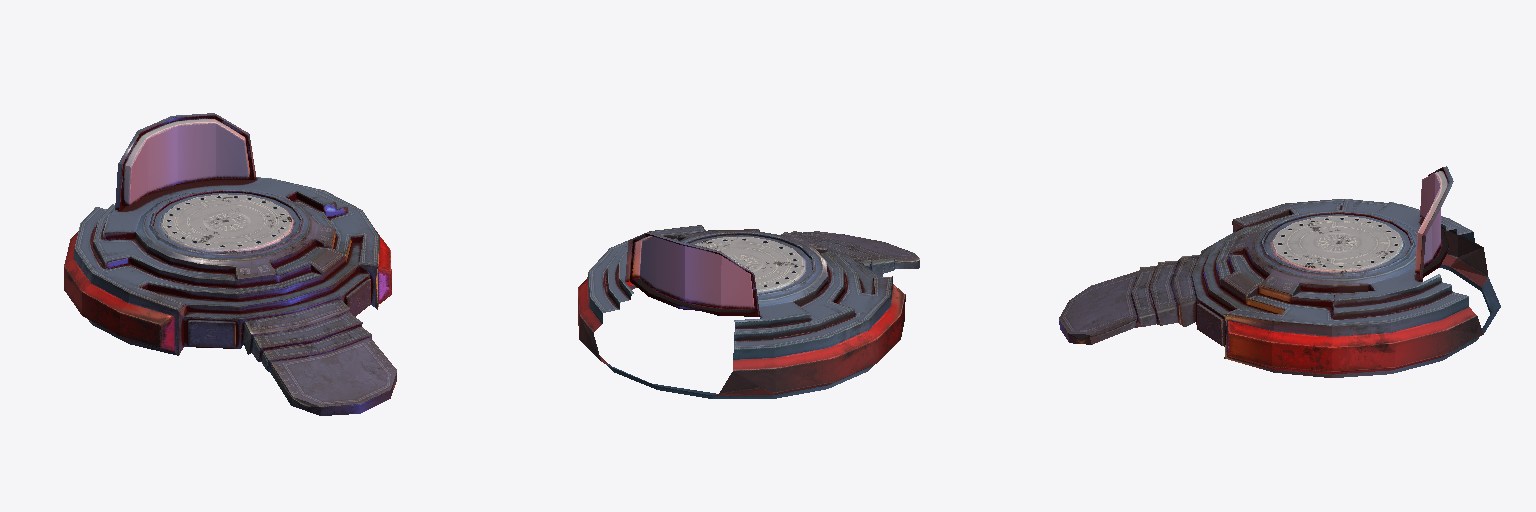
The picture shows the model from 3 angles: view 1: azimuth 30°, elevation 25°; view 2: azimuth 150°, elevation 25°; view 3: azimuth 270°, elevation 25°; orthographic projection.
Parts seen in each view (by area): view 1: FirefoxPlatform; view 2: FirefoxPlatform; view 3: FirefoxPlatform.
Boxes of the visible parts, box(x1,y1,x2,y2) form: FirefoxPlatform: box(64, 113, 396, 415); FirefoxPlatform: box(578, 225, 919, 398); FirefoxPlatform: box(1059, 166, 1500, 377).
Size of the model in its own units: 0.2853 by 0.1459 by 0.3853.
Materials: 1 (1 with a texture image).